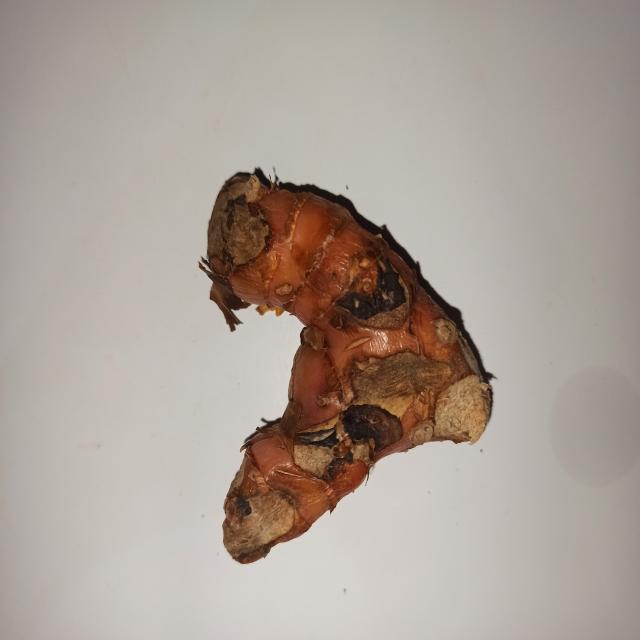ginger: (216, 172, 494, 524)
